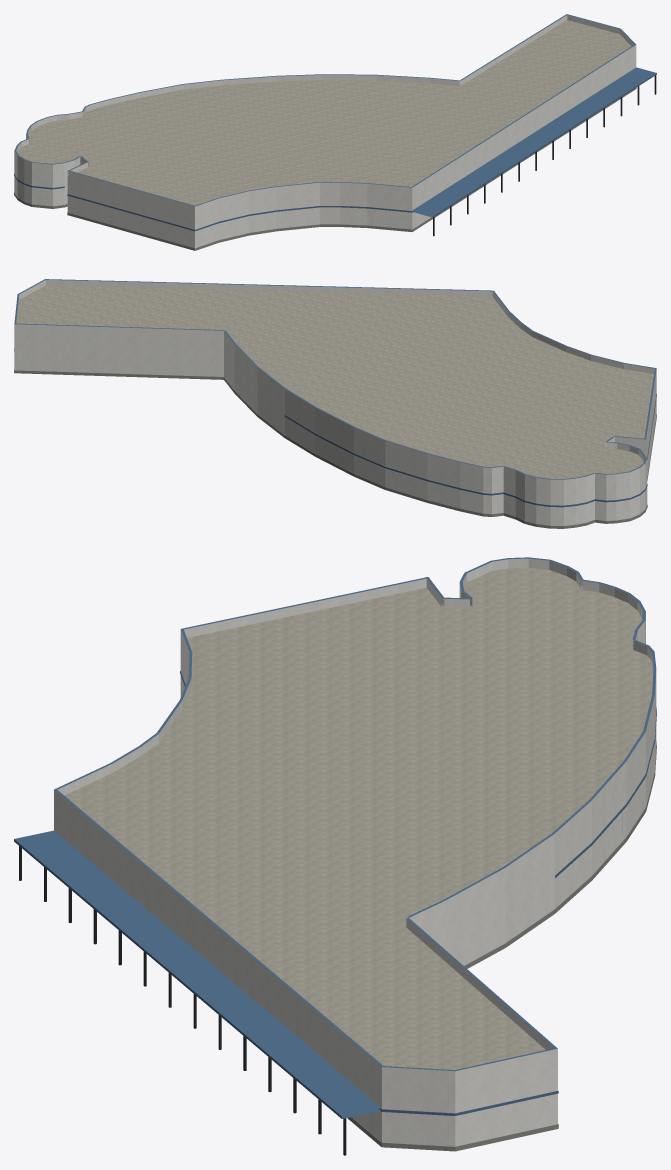
The picture shows the model from 3 angles, top to bottom: view 1: azimuth 30°, elevation 25°; view 2: azimuth 150°, elevation 25°; view 3: azimuth 270°, elevation 25°; orthographic projection. The views are drawn at different scales.
Parts seen in each view (by area): view 1: B-w42896656_lejos, B-w42896656_muros, B-w42896656_remates, B-w42896656_cubierta, B-w42896656_molduras; view 2: B-w42896656_lejos, B-w42896656_muros, B-w42896656_cubierta, B-w42896656_molduras; view 3: B-w42896656_lejos, B-w42896656_muros, B-w42896656_remates, B-w42896656_cubierta, B-w42896656_molduras.
Part boxes in pixels (x1,y1,x2,y2): B-w42896656_lejos: (14, 20, 631, 243); B-w42896656_muros: (14, 36, 636, 250); B-w42896656_remates: (412, 67, 656, 236); B-w42896656_cubierta: (14, 14, 635, 206); B-w42896656_molduras: (14, 87, 636, 250); B-w42896656_lejos: (14, 285, 655, 525); B-w42896656_muros: (14, 279, 656, 525); B-w42896656_cubierta: (14, 279, 656, 479); B-w42896656_molduras: (14, 348, 656, 528); B-w42896656_lejos: (54, 567, 656, 1146); B-w42896656_muros: (54, 579, 656, 1146); B-w42896656_remates: (14, 830, 381, 1155); B-w42896656_cubierta: (54, 557, 656, 1071); B-w42896656_molduras: (180, 671, 656, 1151).
Size of the model in its own units: 110 by 7.9 by 57.53.
Materials: 6 (2 with a texture image).
